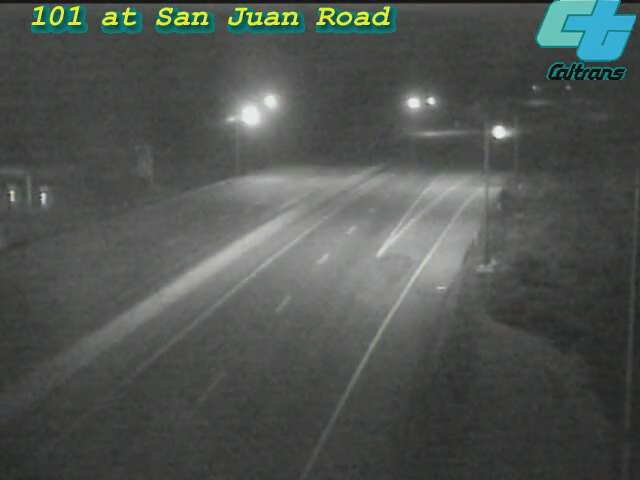vehicle: (1, 235, 60, 315), (473, 107, 523, 157)
